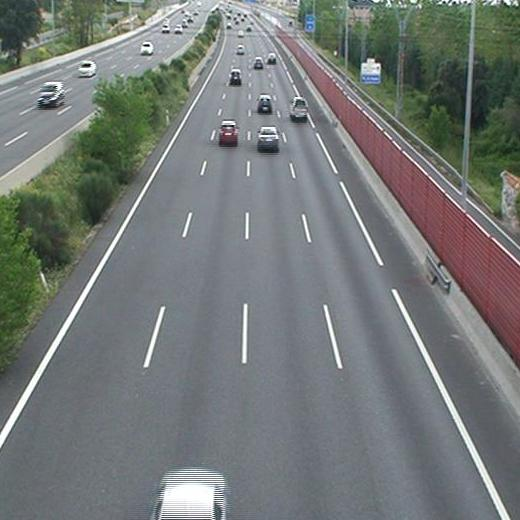car: (257, 126, 279, 149), (220, 121, 238, 142), (291, 98, 308, 118), (258, 95, 272, 111), (230, 69, 241, 84), (254, 58, 263, 69), (236, 45, 244, 54), (268, 53, 274, 63)
